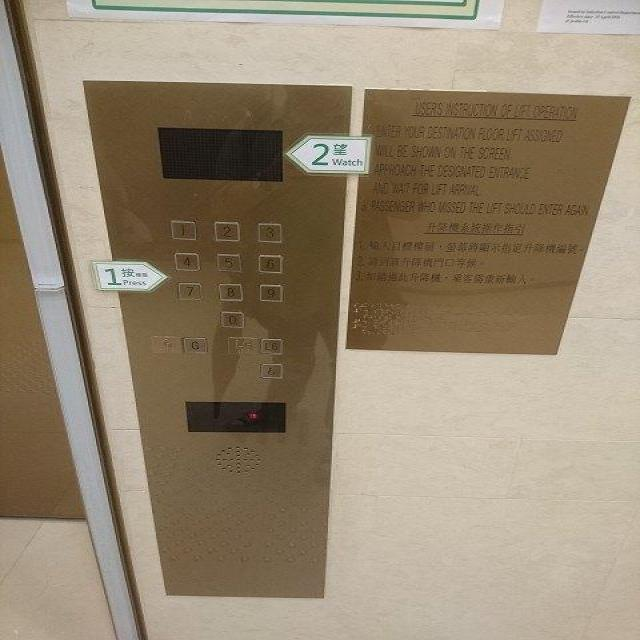0: (214, 308, 247, 330)
1: (165, 216, 199, 243)
2: (208, 218, 241, 245)
3: (251, 219, 284, 246)
4: (168, 248, 201, 275)
5: (211, 249, 244, 276)
6: (253, 251, 287, 275)
7: (172, 279, 205, 303)
8: (213, 280, 246, 303)
9: (253, 281, 286, 303)
CH: (255, 360, 285, 381)
G: (149, 332, 184, 355), (179, 334, 209, 355)
LG: (222, 335, 258, 355), (255, 335, 285, 356)
led: (151, 122, 289, 184), (180, 397, 292, 435)
